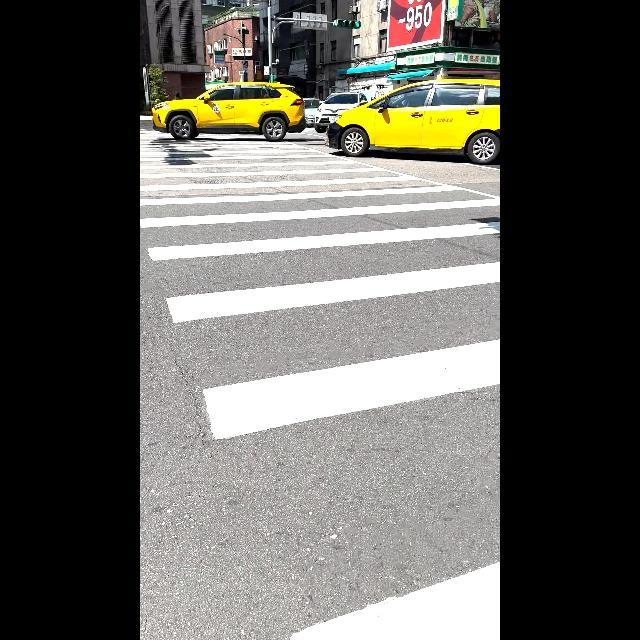sidewalk: (140, 118, 500, 639)
